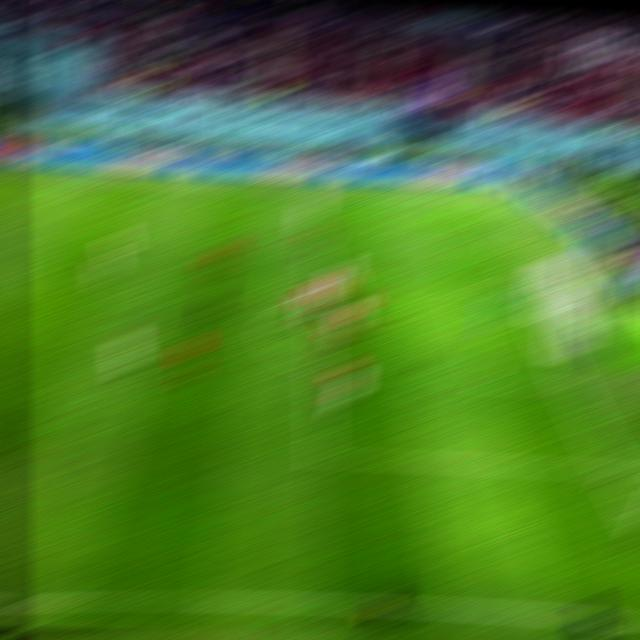bigarea_bottom_inner: (305, 447, 336, 466)
bigarea_bottom_outter: (600, 465, 625, 478)
bigarea_top_inner: (309, 238, 330, 244)
bigarea_top_outter: (493, 243, 516, 252)
bottom_arc_area_intersection: (306, 357, 332, 372)
corner: (472, 204, 495, 206)
smallarea_bottom_inner: (471, 372, 502, 391)
smallarea_bottom_outter: (558, 380, 584, 391)
smallarea_top_inner: (443, 281, 470, 296)
smallarea_top_outter: (512, 285, 538, 293)
